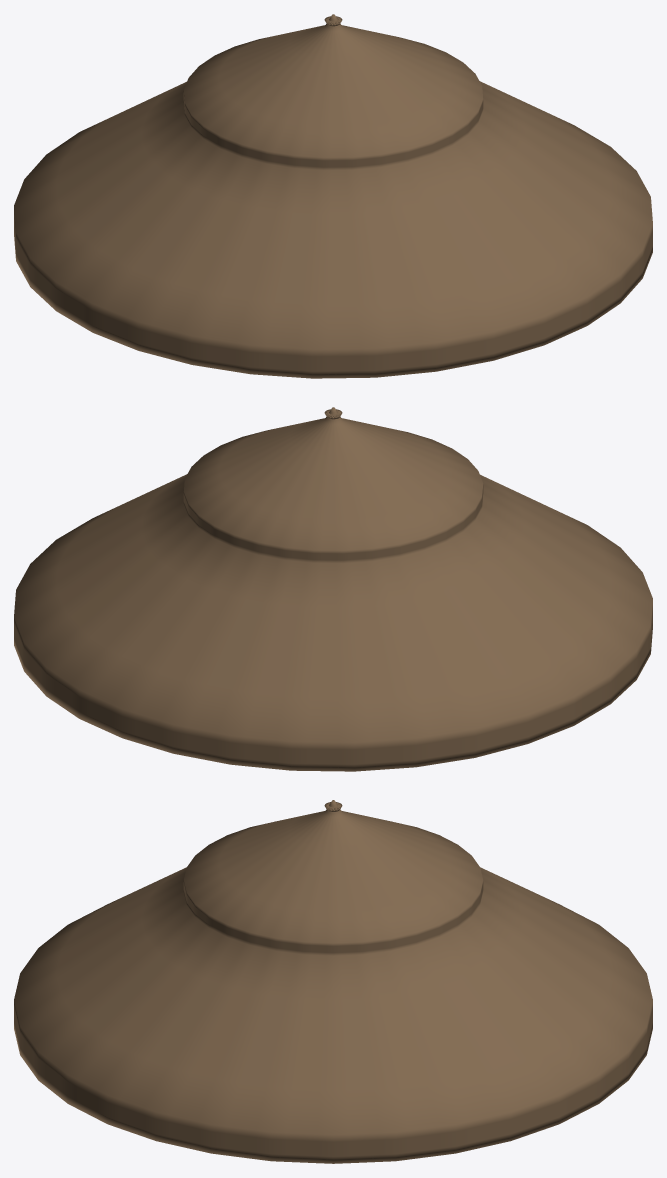
Rendered from SalakotArtifact.fbx.
The picture shows the model from 3 angles, top to bottom: view 1: azimuth 30°, elevation 25°; view 2: azimuth 150°, elevation 25°; view 3: azimuth 270°, elevation 25°; orthographic projection.
Parts seen in each view (by area): view 1: Cylinder; view 2: Cylinder; view 3: Cylinder.
Boxes of the visible parts, box(x1,y1,x2,y2) form: Cylinder: box(14, 14, 652, 378); Cylinder: box(14, 407, 652, 771); Cylinder: box(14, 800, 652, 1163).
Size of the model in its own units: 200 by 78.79 by 200.
